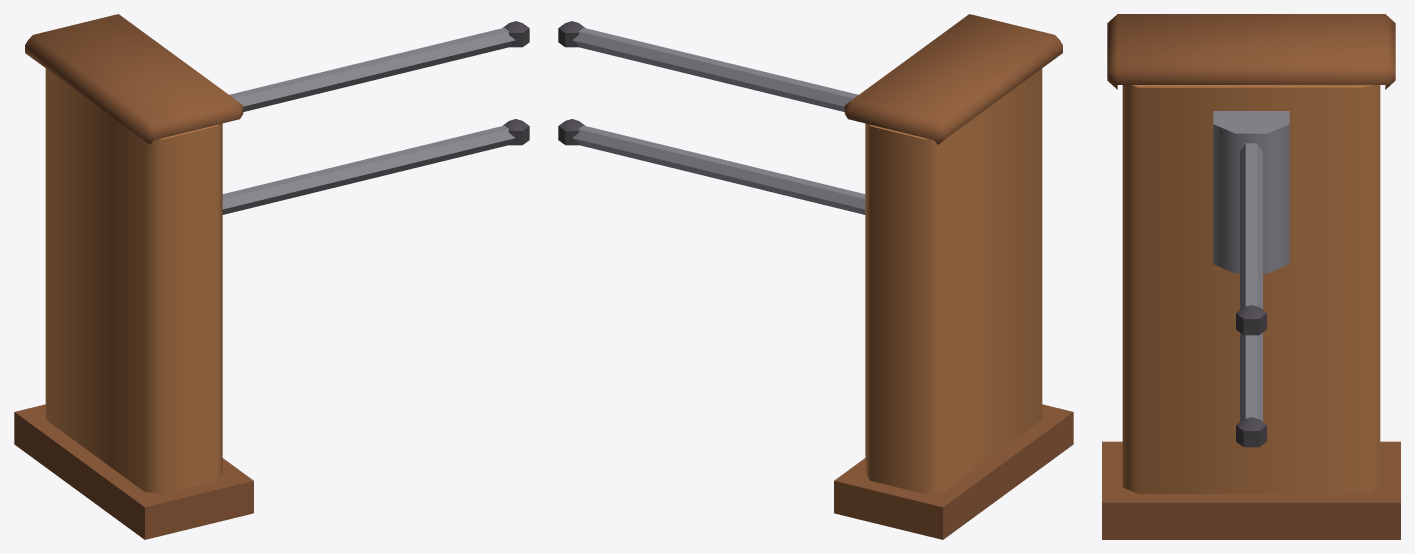
The model's file is turnstile.glb.
The picture shows the model from 3 angles, left to right: view 1: azimuth 30°, elevation 25°; view 2: azimuth 150°, elevation 25°; view 3: azimuth 270°, elevation 25°; orthographic projection. The views are drawn at different scales.
Parts seen in each view (by area): view 1: turnstile, arms; view 2: turnstile, arms; view 3: turnstile, arms.
Boxes of the visible parts, left/top/right/bottom form: turnstile: left=14, top=14, right=253, bottom=539; arms: left=222, top=21, right=529, bottom=214; turnstile: left=834, top=14, right=1073, bottom=539; arms: left=558, top=21, right=865, bottom=214; turnstile: left=1102, top=14, right=1400, bottom=539; arms: left=1236, top=143, right=1266, bottom=447.
Size of the model in its own units: 1.15 by 1.01 by 0.58.
1 material, 1 textured.
